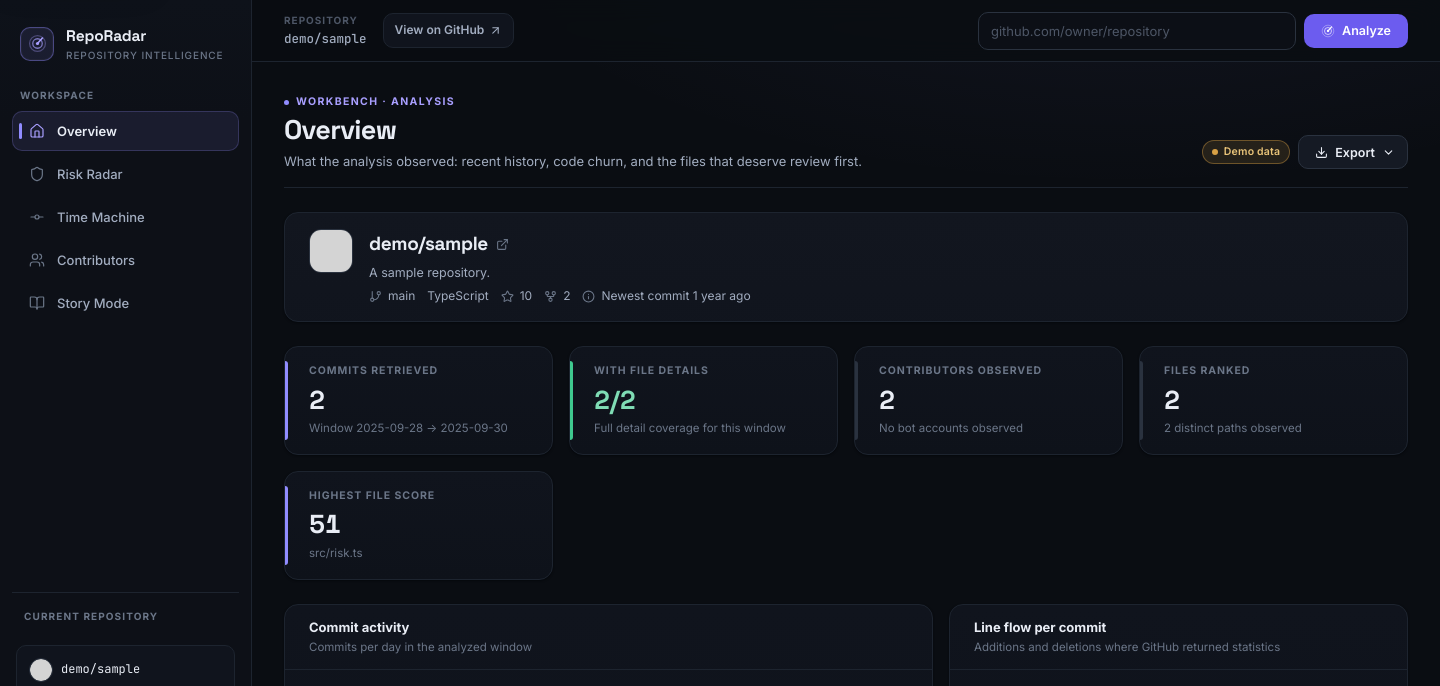
Scenario: App › keeps the current dataset when an analysis fails and offers recovery actions
The width and height of the screenshot is (1440, 686).
Expected: the heading "Overview" is shown, [284,112,396,147]
Type "github.com/nope/nope" into the field named "GitHub repository URL" at point(1137, 30), box [978,12,1296,50]
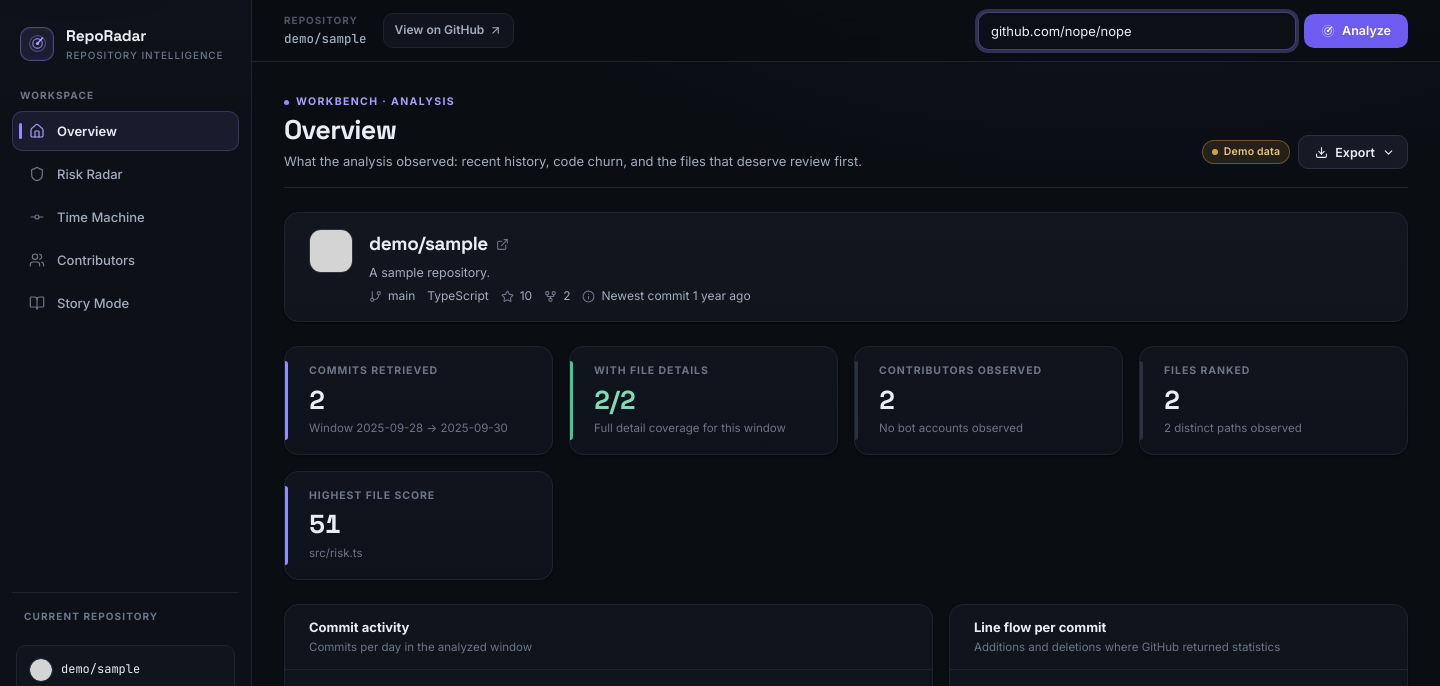
Click the button "Analyze" at point(1356, 30), box [1304,14,1408,48]
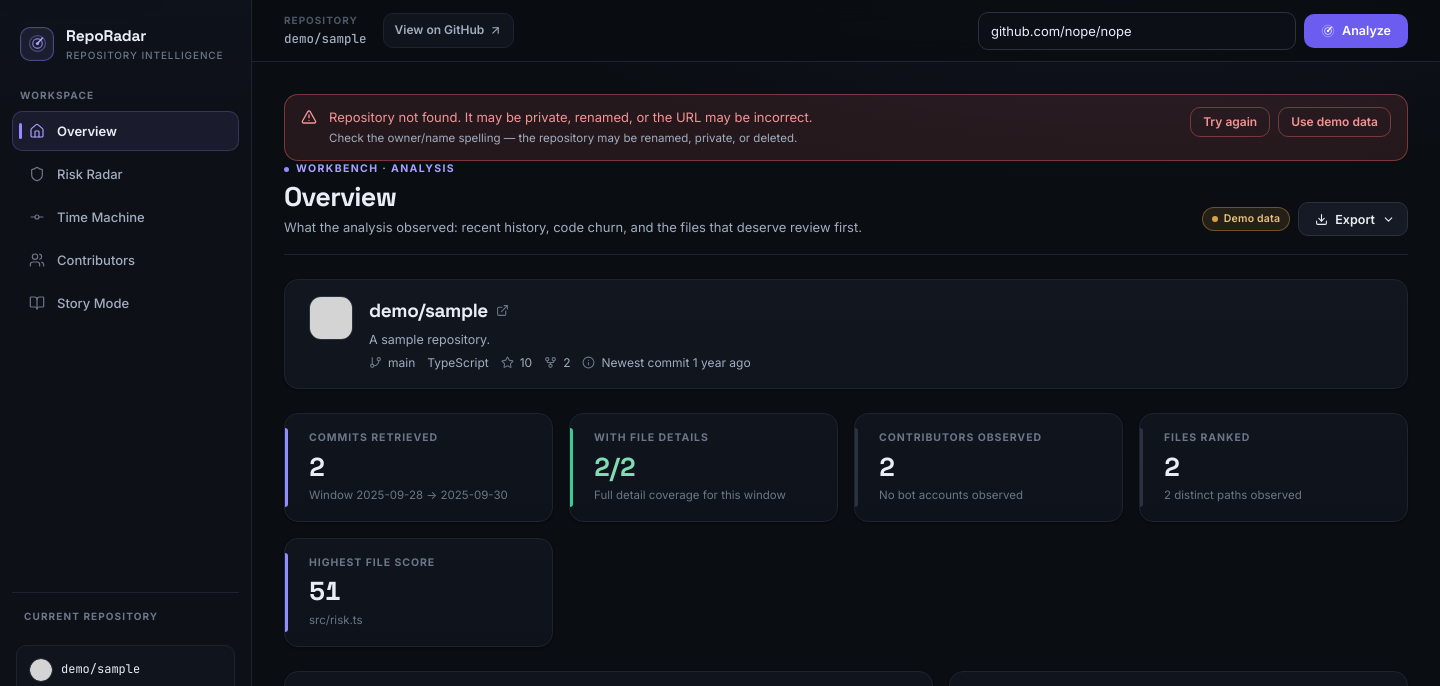
Expected: the message shows "Repository not found. It may be private, renamed", [329,109,812,125]
Expected: the button "Try again" is shown, [1190,107,1270,137]
Expected: the button "Use demo data" is shown, [1278,107,1391,137]
